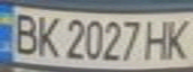0: (81, 17, 106, 62)
2: (63, 15, 87, 61), (103, 17, 124, 62)
7: (121, 17, 145, 62)
B: (6, 9, 42, 56)
H: (142, 16, 172, 61)
K: (160, 15, 193, 61), (33, 11, 63, 57)
